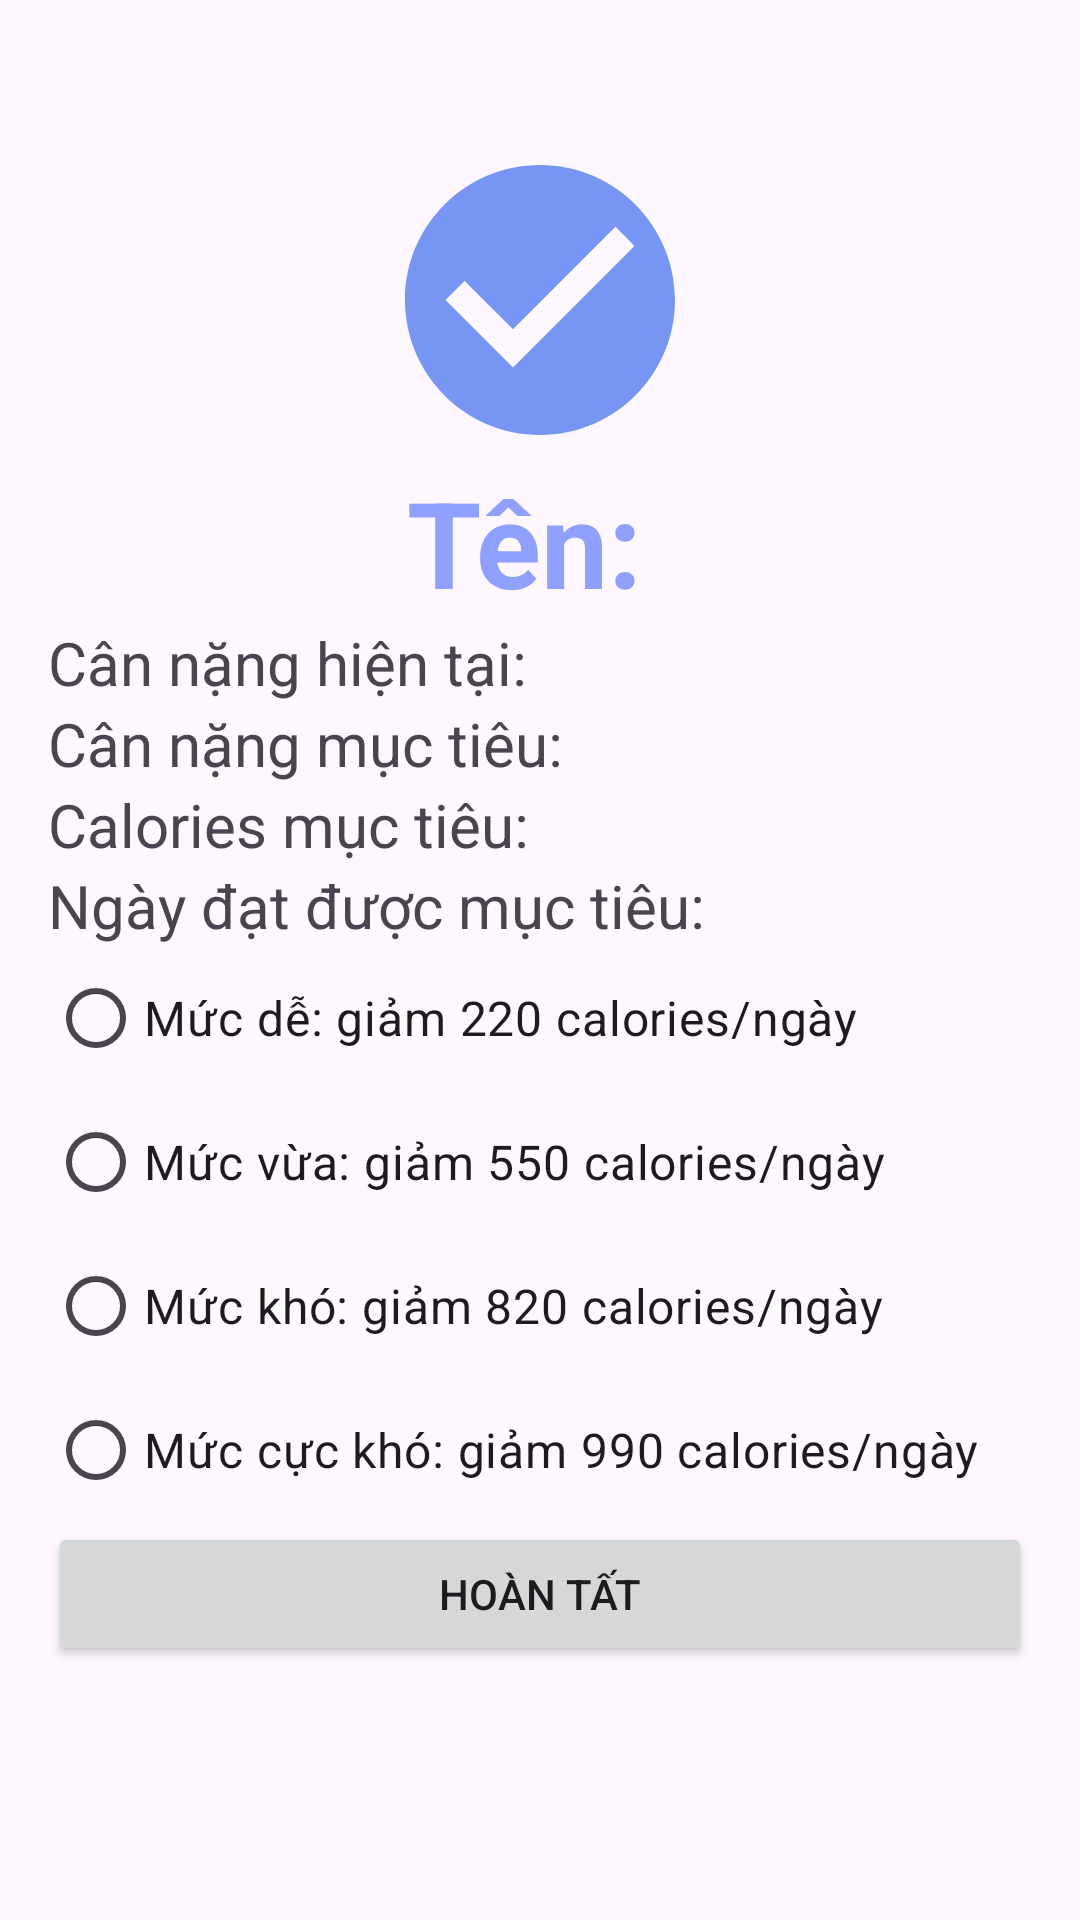

Point at icon controls on the screen. Image size 1080x1920, points as (x,y).
check circle: (540,300)
